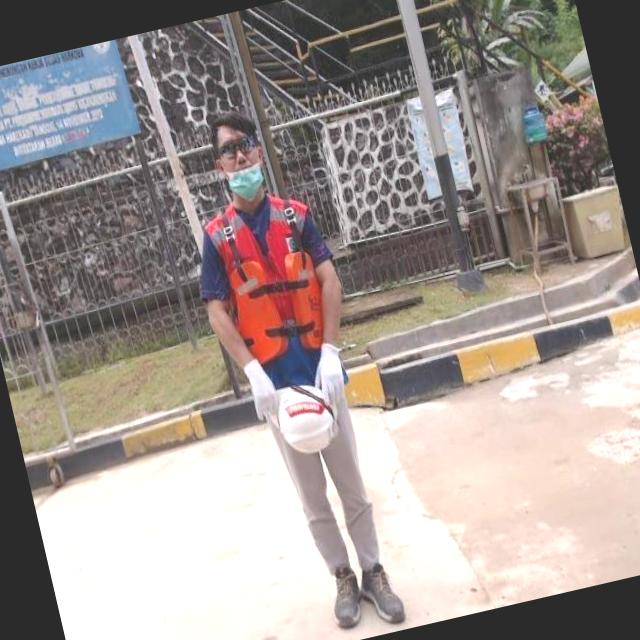boots: (354, 559, 410, 632), (322, 562, 368, 635)
helmet: (263, 377, 346, 462)
vest: (202, 186, 350, 408)
